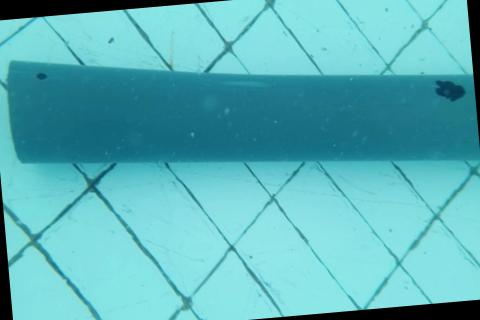kebocoran: (432, 76, 466, 103), (35, 71, 48, 82)
